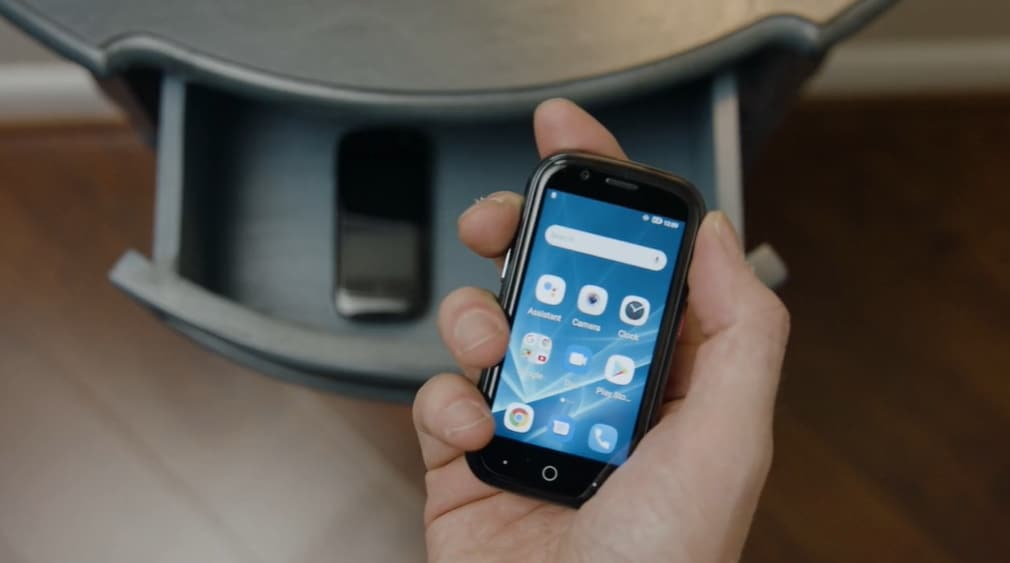Phone: (460, 144, 711, 515)
